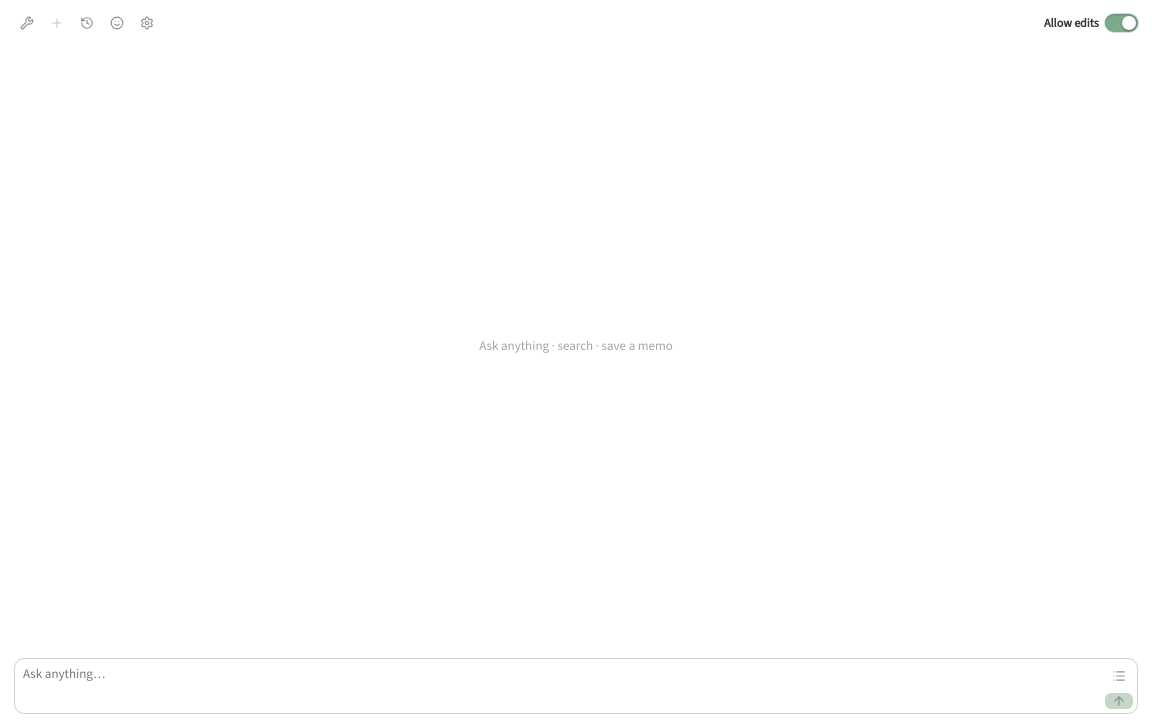
SidebarChat › ignores pet-chat-updated while a send is pending
Type "hi" into the text box with placeholder "Ask anything…".
click(560, 686); type("hi")  # box [15,659,1105,713]
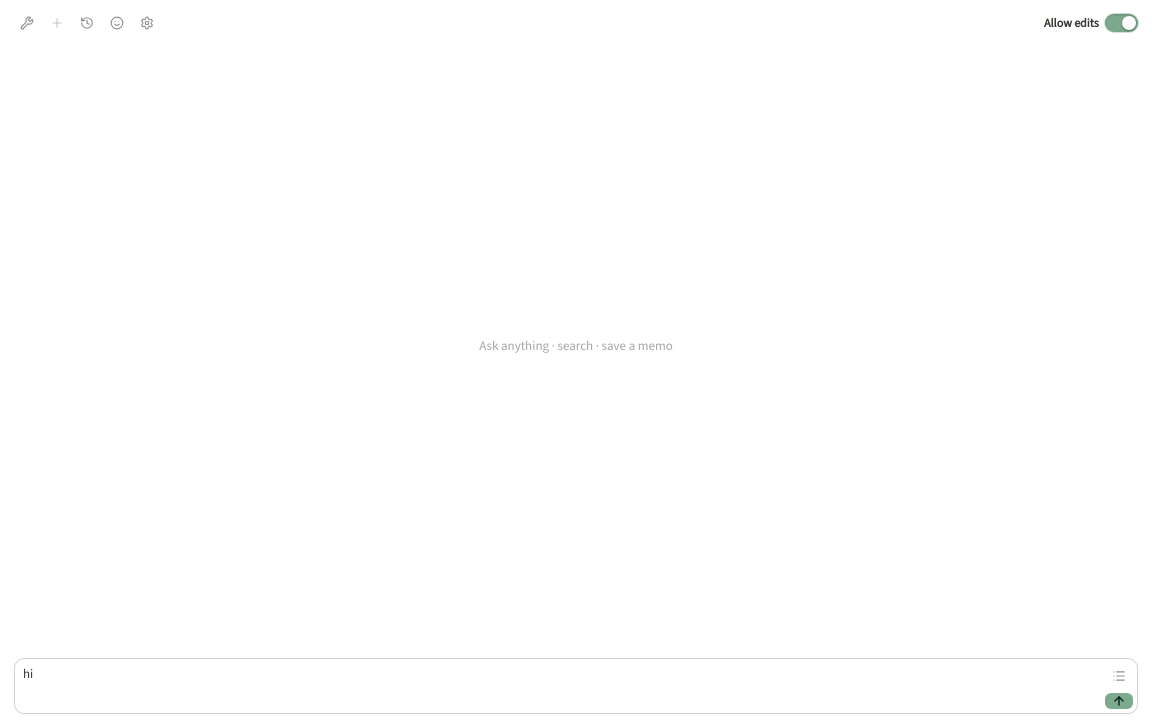
Press Enter in the text box with placeholder "Ask anything…", box [15,659,1105,713]
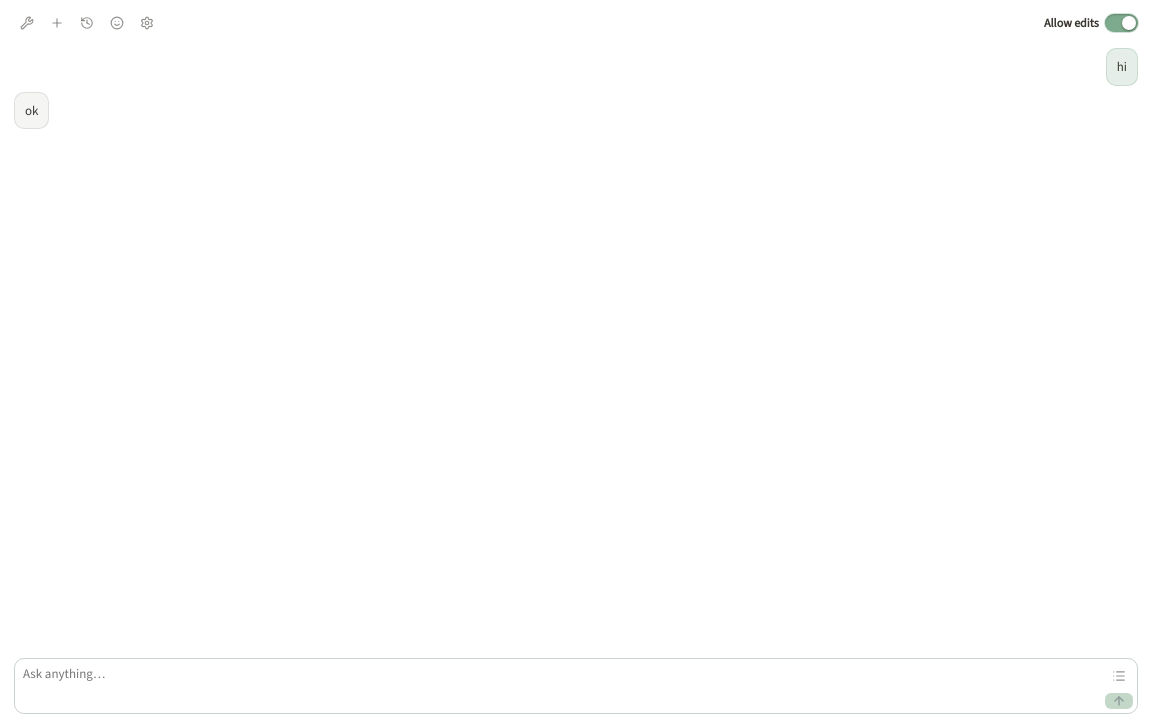
Now the text "ok" is shown, box [25,102,38,118]
